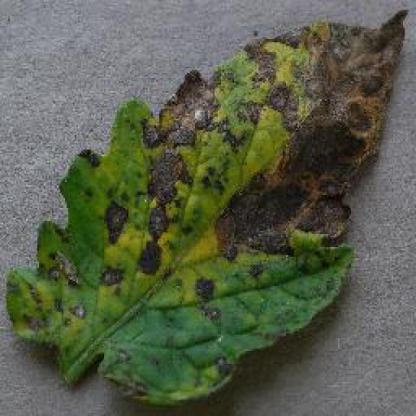Tomato_Blight: (6, 11, 405, 406)
